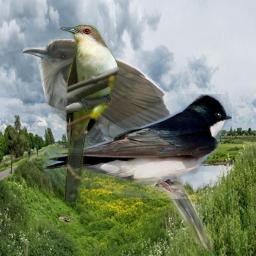Cuckoo: (23, 39, 214, 256), (60, 24, 120, 202)
Swallow: (43, 94, 232, 199)
